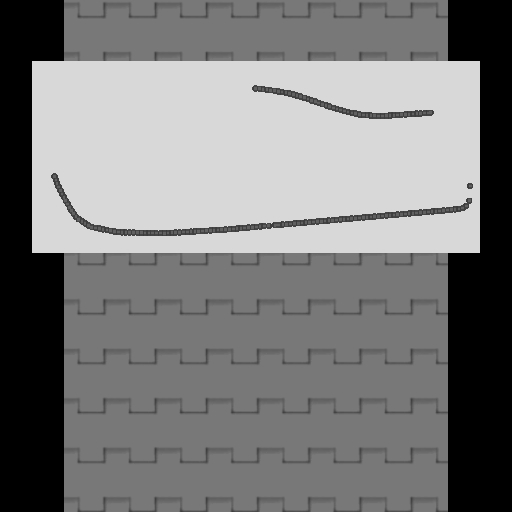Defect: (49, 83, 254, 173)
